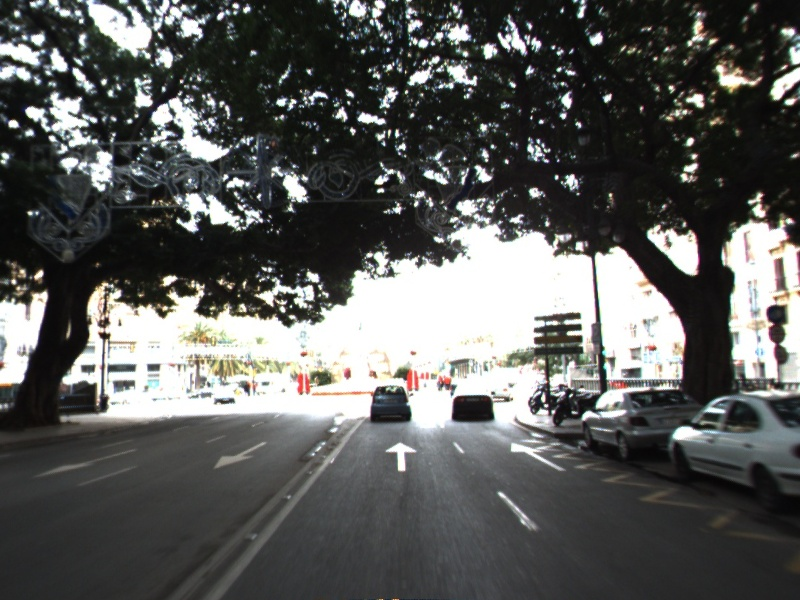STRAIGHT: (509, 441, 569, 473), (383, 440, 419, 473)
